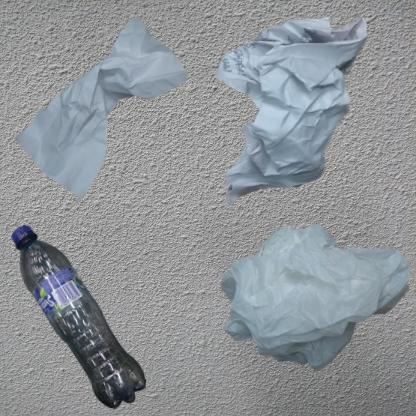bolsa: (213, 213, 416, 385)
botella: (10, 213, 155, 416)
papel: (10, 10, 192, 213), (213, 10, 371, 206)
